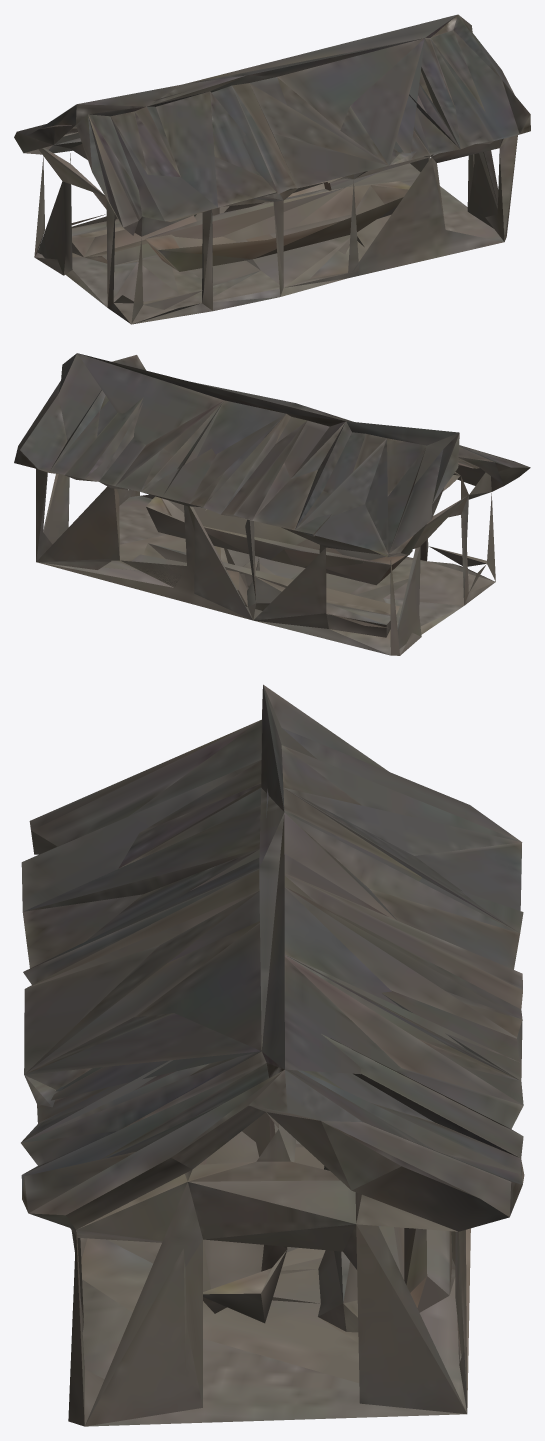
The model's file is shipyard_lod1.glb.
The picture shows the model from 3 angles, top to bottom: view 1: azimuth 30°, elevation 25°; view 2: azimuth 150°, elevation 25°; view 3: azimuth 270°, elevation 25°; orthographic projection. The views are drawn at different scales.
Parts seen in each view (by area): view 1: Mesh_0; view 2: Mesh_0; view 3: Mesh_0.
Part boxes in pixels (<box>): Mesh_0: <box>14,14,530,324</box>; Mesh_0: <box>14,353,530,655</box>; Mesh_0: <box>21,684,524,1426</box>.
Bounding box in the file's own units: 1.87 × 0.8373 × 1.01.
1 material, 1 textured.
